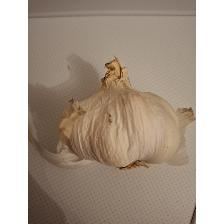Knoblauch: (56, 54, 194, 172)
